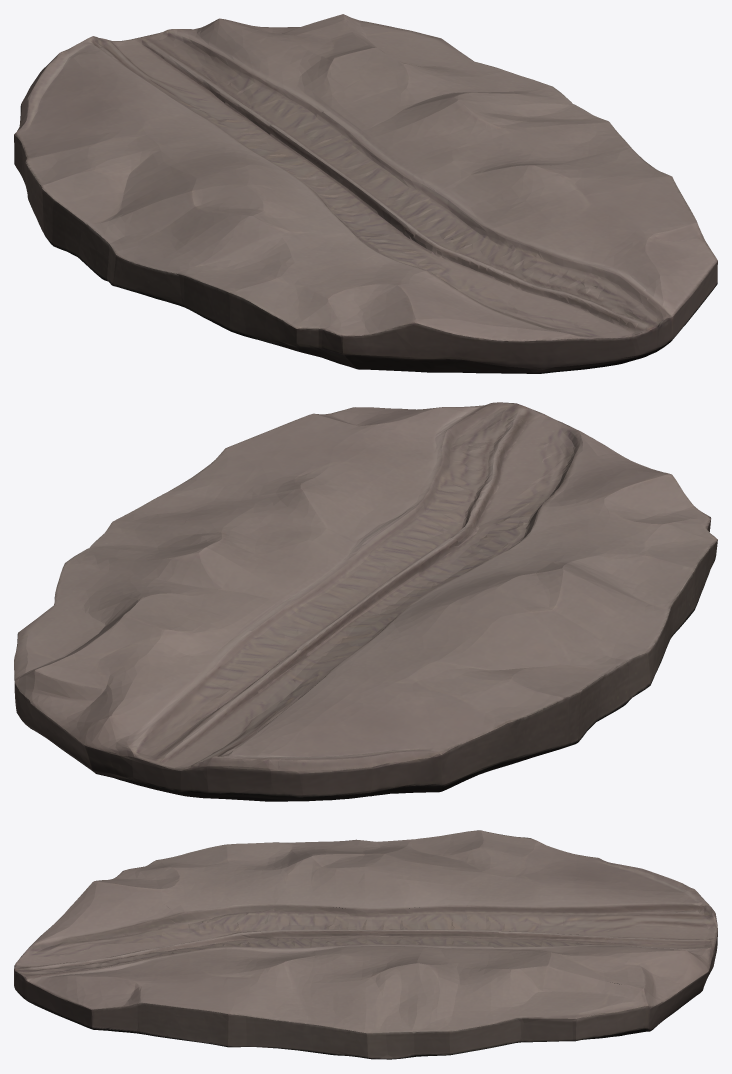
3 renders of one model, top to bottom at view 1: azimuth 30°, elevation 25°; view 2: azimuth 150°, elevation 25°; view 3: azimuth 270°, elevation 25°, orthographic. The views are drawn at different scales.
Parts seen in each view (by area): view 1: world; view 2: world; view 3: world.
Part boxes in pixels (<box>): world: <box>14,14,717,373</box>; world: <box>14,402,717,801</box>; world: <box>14,830,717,1059</box>.
Size of the model in its own units: 0.6727 by 0.0948 by 1.
1 material, 1 textured.
